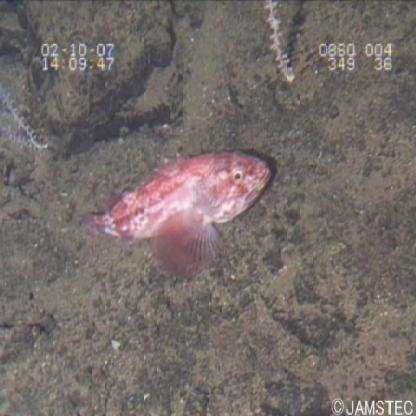Bio: (78, 144, 281, 289)
